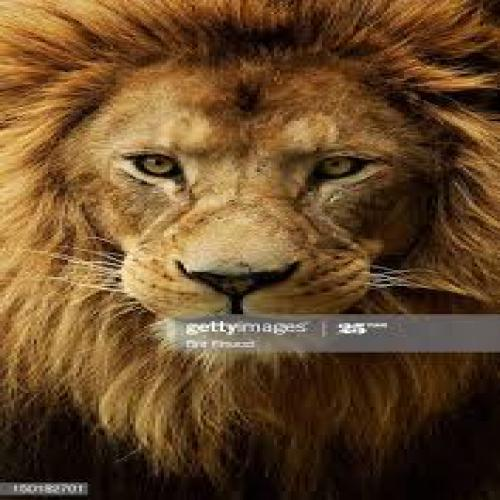lion-endangered: (27, 11, 480, 484)
